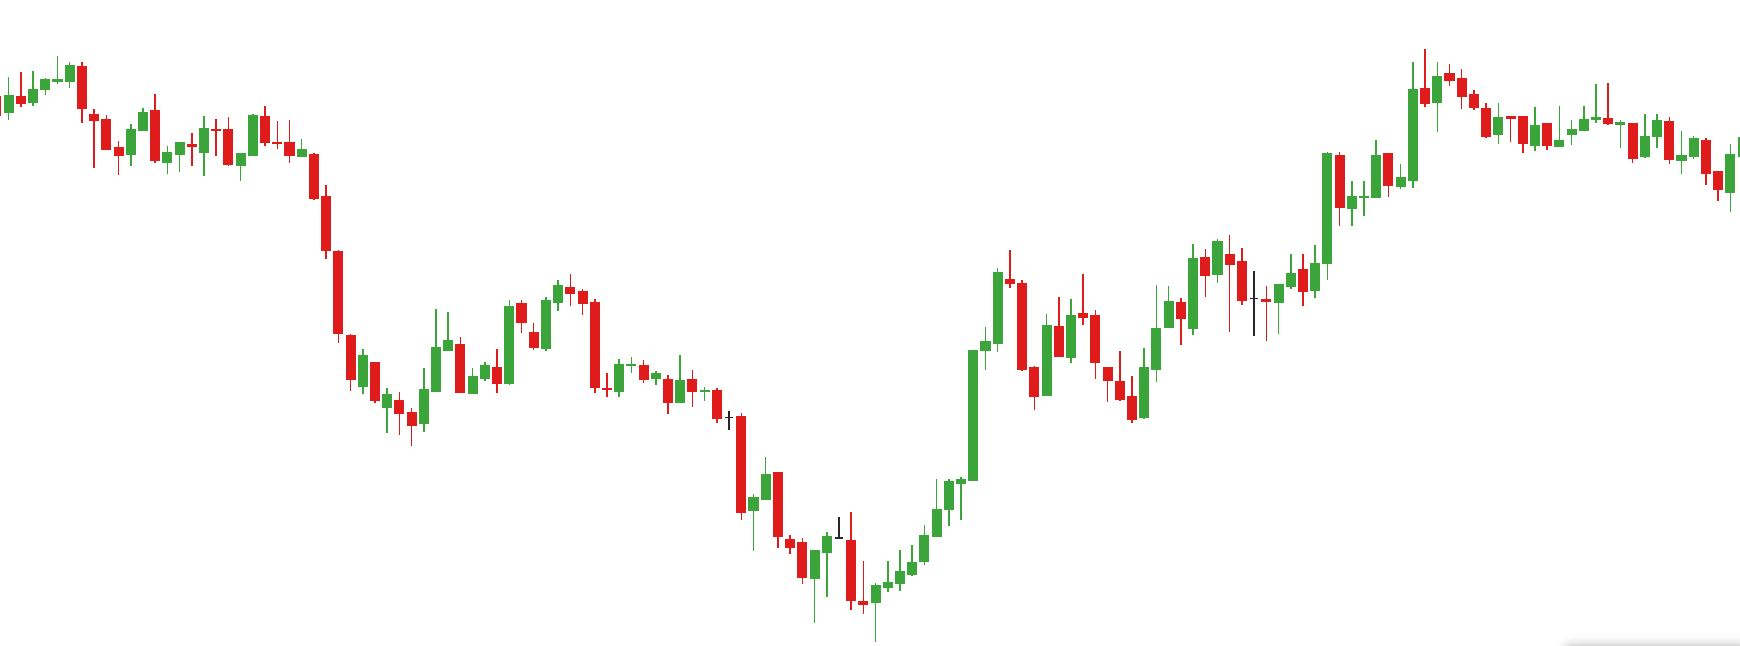buy: (1030, 317, 1151, 431), (809, 533, 882, 646)
